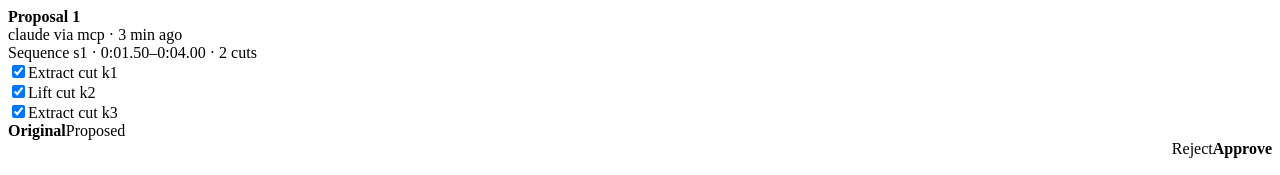
承認と却下 › 全部オフなら承認できない
Step 1. Click the checkbox labelled "Extract cut k1" → (18, 72), box x1=12 y1=65 x2=25 y2=78
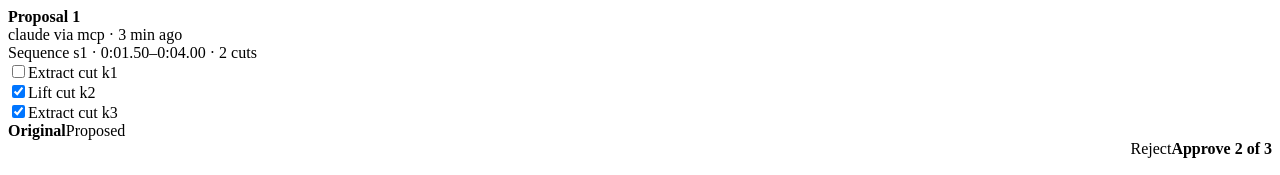
Step 2. Click the checkbox labelled "Lift cut k2" → (18, 92), box x1=12 y1=85 x2=25 y2=98
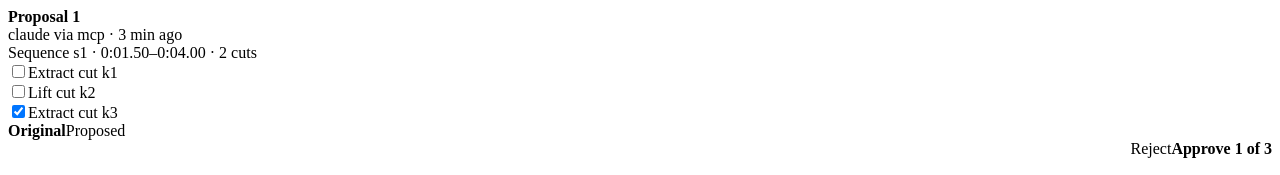
Step 3. Click the checkbox labelled "Extract cut k3" → (18, 112), box x1=12 y1=105 x2=25 y2=118
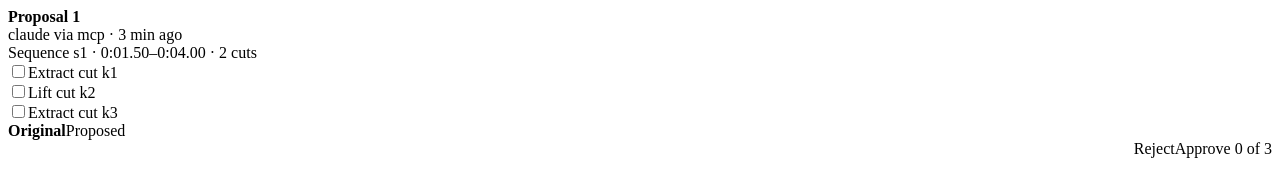
Expected: the button "Approve 0 of 3" is disabled, x1=1175 y1=140 x2=1272 y2=158
